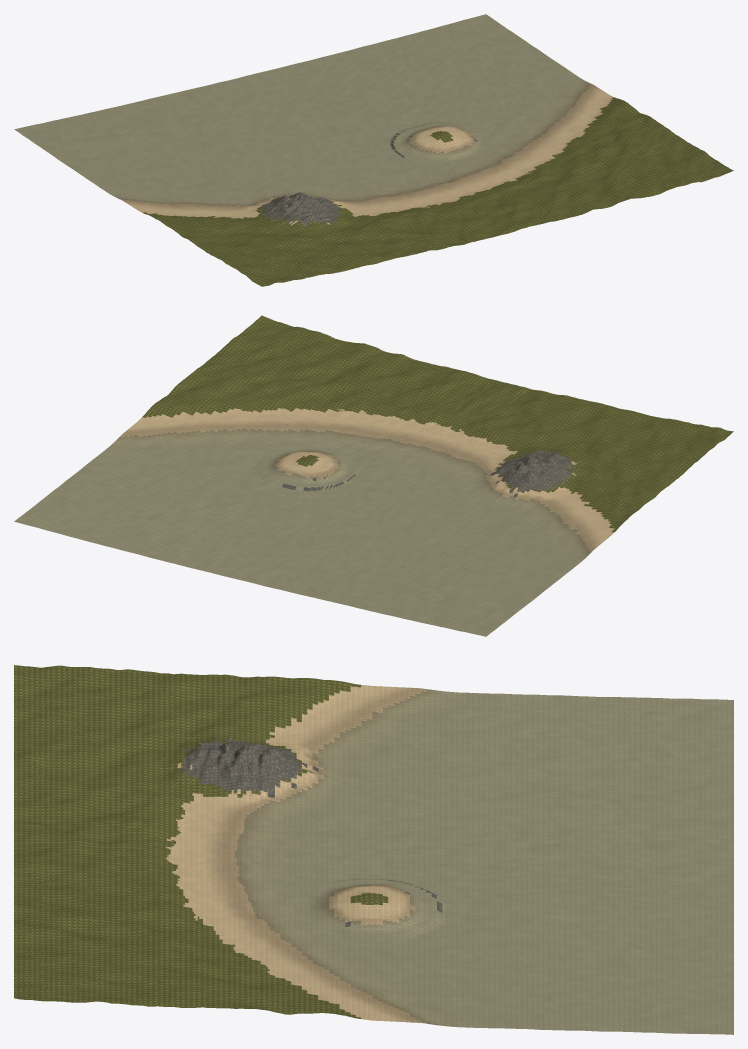
File: tw_terrain.glb
The picture shows the model from 3 angles, top to bottom: view 1: azimuth 30°, elevation 25°; view 2: azimuth 150°, elevation 25°; view 3: azimuth 270°, elevation 25°; orthographic projection. The views are drawn at different scales.
Visible parts, largest first — view 1: tw_terrain; view 2: tw_terrain; view 3: tw_terrain.
Boxes of the visible parts, x1=… form: tw_terrain: x1=14, y1=14, x2=733, y2=286; tw_terrain: x1=14, y1=315, x2=733, y2=636; tw_terrain: x1=14, y1=665, x2=733, y2=1034.
Size of the model in its own units: 440 by 28.25 by 400.
Materials: 4 (4 with a texture image).
